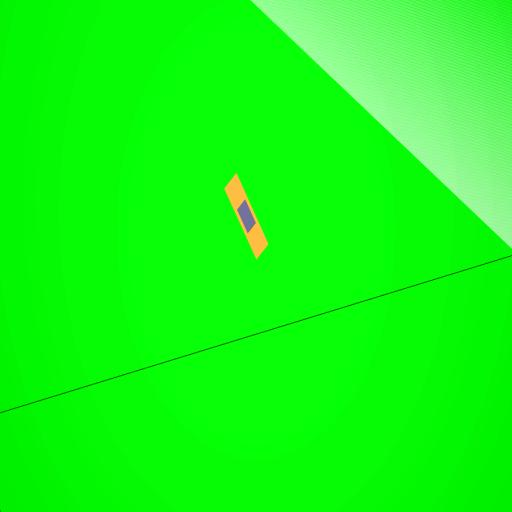objects: (221, 174, 272, 259)
